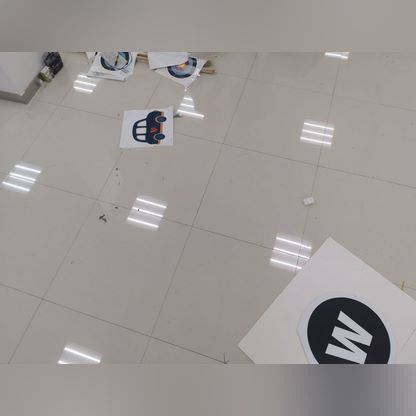W: (298, 280, 409, 376)
car: (119, 91, 182, 152)
